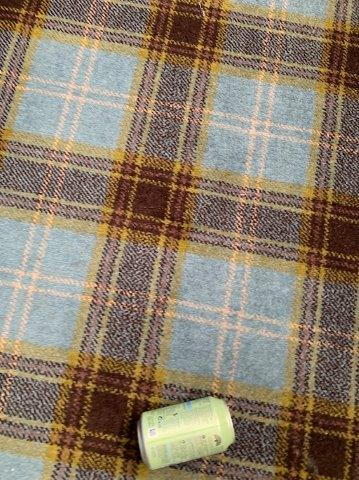kaleng: (138, 396, 235, 470)
